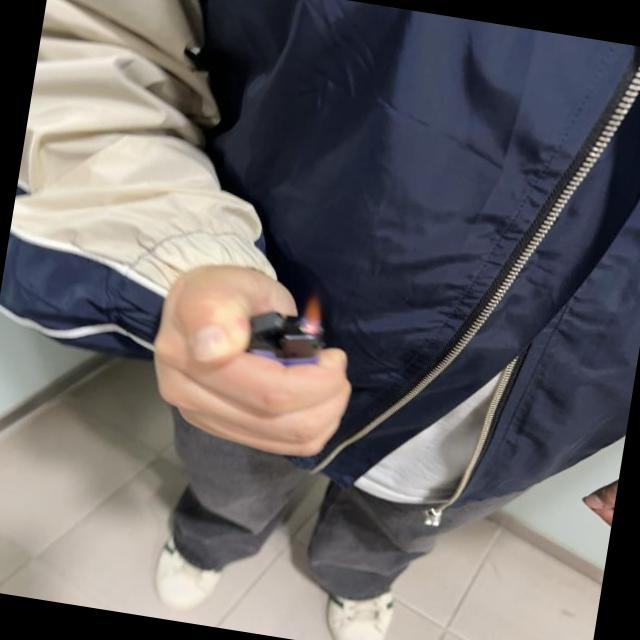Fire: (298, 293, 326, 336)
